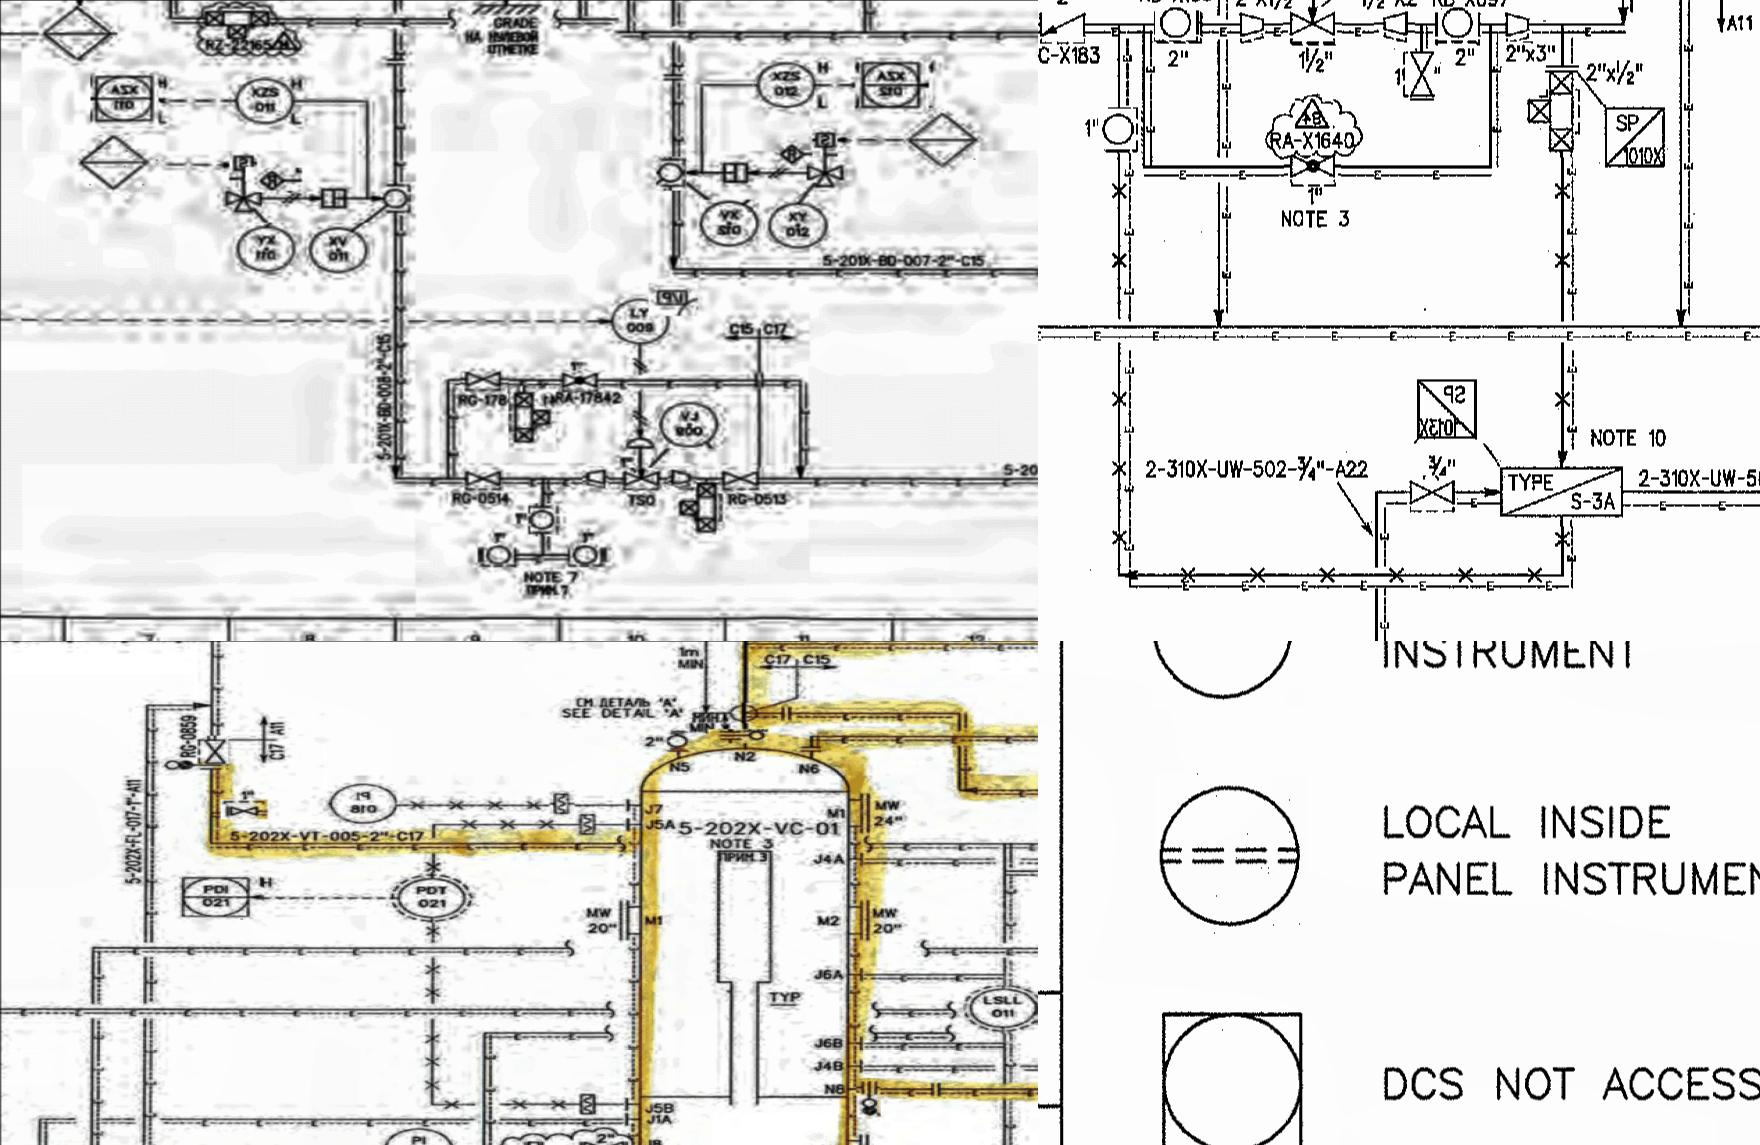2 WAY VALVE: (1527, 71, 1583, 158), (194, 0, 282, 45), (508, 386, 555, 453), (677, 473, 727, 536)
3 WAY GENERAL VALVE: (803, 158, 852, 195), (222, 185, 266, 217)
CONCENTRIC REDUCER: (1374, 8, 1415, 44), (1230, 10, 1273, 41), (1500, 10, 1539, 41), (584, 465, 609, 490), (668, 467, 698, 487)
DCS ACCESSIBLE: (854, 56, 929, 112), (91, 72, 160, 127)
DCS NOT ACCESSIBLE: (1149, 1001, 1315, 1145)
END FLANGED: (625, 428, 657, 453), (659, 67, 689, 86)
FIELD INSTRUMENT: (752, 56, 817, 112), (767, 195, 834, 247), (236, 223, 304, 274), (607, 295, 676, 345), (656, 400, 725, 449), (230, 78, 298, 126), (309, 223, 369, 276), (700, 200, 761, 251), (1098, 109, 1143, 154), (1155, 6, 1202, 44), (1439, 8, 1478, 47), (477, 542, 522, 572), (571, 541, 609, 571), (657, 156, 688, 191), (384, 182, 414, 215), (529, 503, 557, 536)
GATE VALVE: (1284, 8, 1343, 45), (1406, 476, 1464, 513), (1403, 49, 1441, 103), (461, 364, 509, 394), (721, 467, 767, 495), (461, 468, 509, 491), (614, 467, 666, 489)
GLOBE VALVE: (1285, 156, 1342, 183), (548, 371, 604, 391)
HARDWIRED INTERLOCK FIELD: (248, 167, 304, 192), (770, 144, 821, 165)
HARDWIRED INTERLOCK PRIMARY.: (78, 135, 162, 194), (903, 110, 985, 167), (38, 6, 118, 58)
INSIDE PANEL INSTRUMENT: (1149, 641, 1305, 708)
IP CONVERTER: (648, 283, 698, 318)
LOCAL INSIDE PANEL INSTRUMENT: (1155, 773, 1307, 933)
REVISION TRIANGLE: (1296, 95, 1333, 131)
SPECIAL PIPING ITEM: (1497, 460, 1633, 526), (1414, 374, 1488, 445), (1598, 105, 1669, 174)
SPEED FLOW METER: (230, 154, 259, 182), (813, 124, 839, 156)
